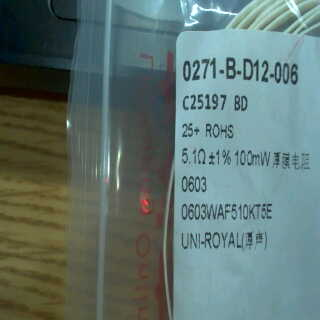5.1R: (178, 145, 207, 170)
